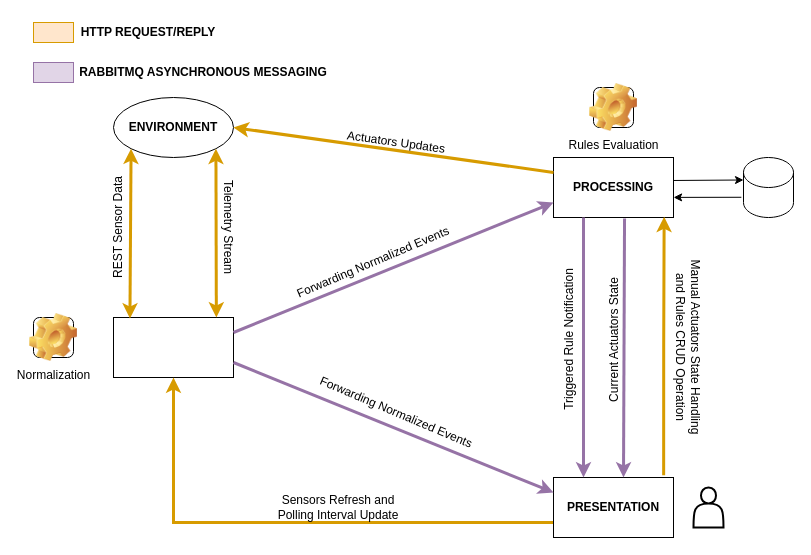
Some shapes in this 811 by 555 pixel diagram are drawn without their labels. The centre of each missing label's shape, as x and y in pixels:
DB: pixel 768 187
INGESTION: pixel 173 347
